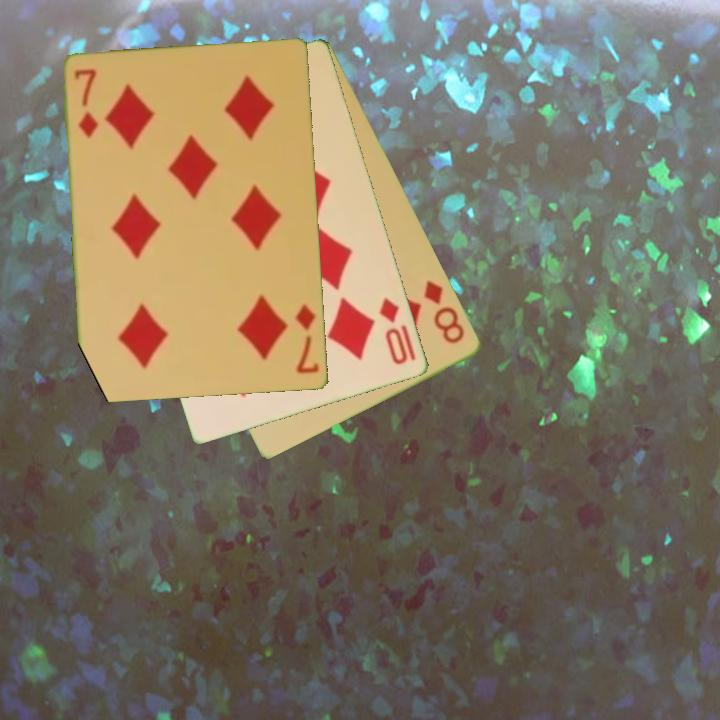10d: (376, 294, 411, 368)
7d: (71, 65, 102, 141), (292, 301, 322, 377)
8d: (420, 276, 468, 347)
